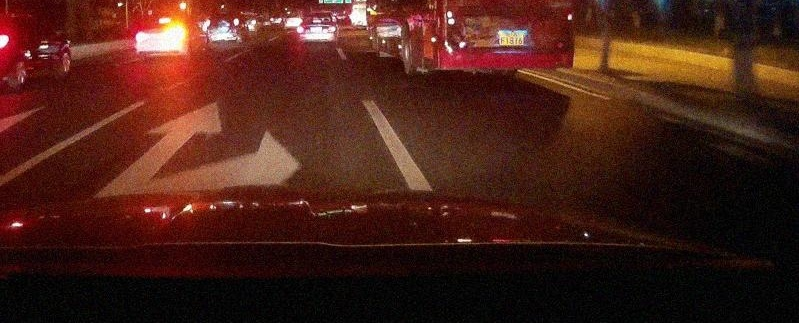L_light: (136, 33, 148, 40), (297, 28, 304, 33)
R_light: (171, 32, 185, 39), (327, 27, 335, 32)
T_light: (159, 18, 171, 24), (313, 20, 321, 23)
night-brake: (296, 11, 336, 47)
night-right: (135, 12, 189, 59)
